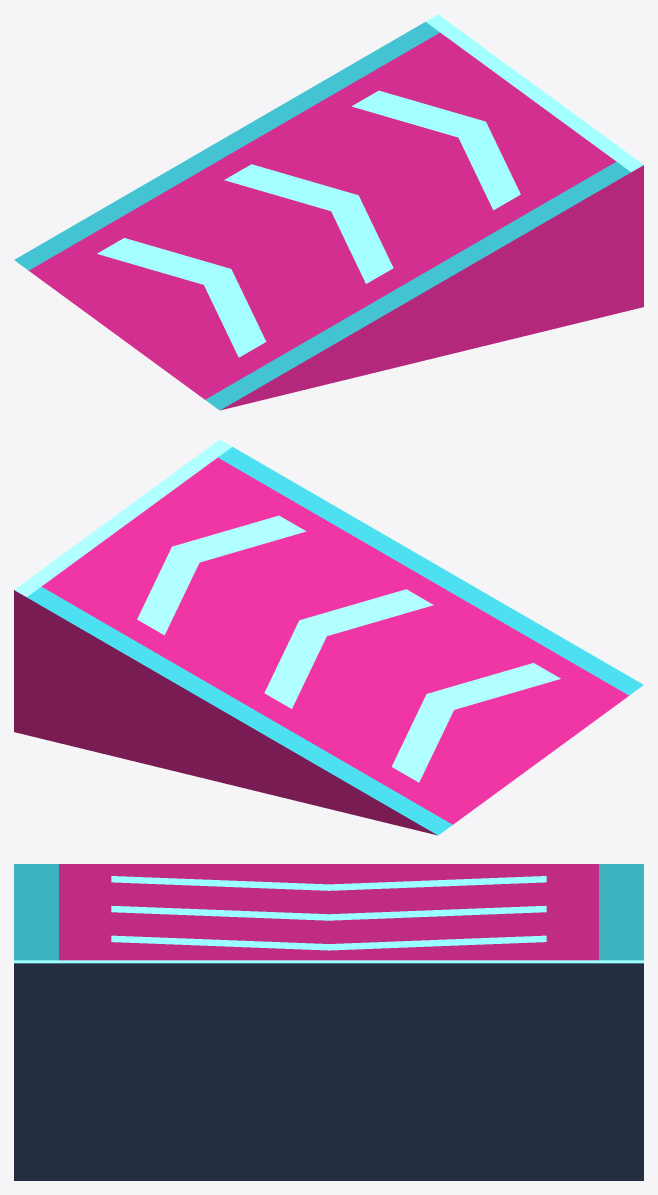
The model's file is ramp_neon.glb.
The picture shows the model from 3 angles, top to bottom: view 1: azimuth 30°, elevation 25°; view 2: azimuth 150°, elevation 25°; view 3: azimuth 270°, elevation 25°; orthographic projection. The views are drawn at different scales.
Parts seen in each view (by area): view 1: ramp_core; view 2: ramp_core; view 3: ramp_core.
Part boxes in pixels (bbox=[...]): ramp_core: bbox=[14, 14, 643, 410]; ramp_core: bbox=[14, 439, 643, 835]; ramp_core: bbox=[14, 864, 643, 1180].
Size of the model in its own units: 10 by 3.2 by 8.4.
